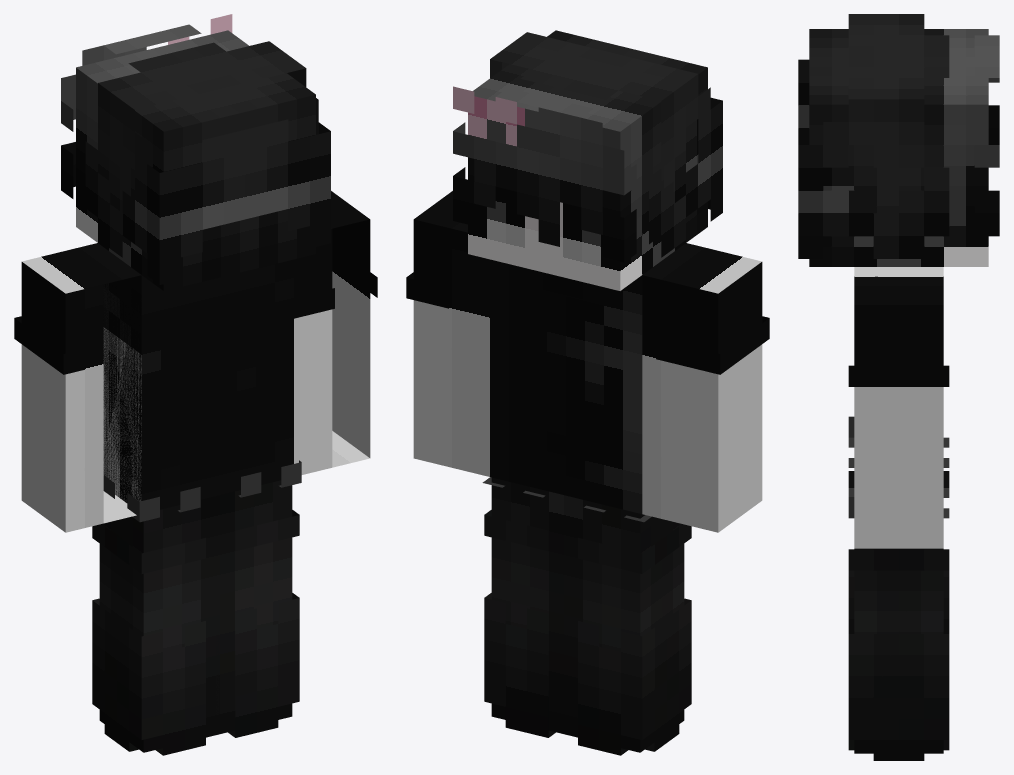
3 views of the same model, side by side, from view 1: azimuth 30°, elevation 25°; view 2: azimuth 150°, elevation 25°; view 3: azimuth 270°, elevation 25° (orthographic).
Parts seen in each view (by area): view 1: Body, Hat Layer, Left Arm, Head, Right Arm, Left Leg Layer, Left Leg, Right Leg, Right Leg Layer, Body Layer, Left Arm Layer, Right Arm Layer; view 2: Hat Layer, Body, Left Arm, Head, Right Arm, Left Leg Layer, Left Leg, Right Leg, Right Leg Layer, Left Arm Layer, Body Layer, Right Arm Layer; view 3: Hat Layer, Right Arm, Head, Right Leg Layer, Right Leg, Right Arm Layer, Left Leg Layer, Body Layer.
Part boxes in pixels (x1=…): Body: x1=103, y1=259, x2=293, y2=509; Hat Layer: x1=61, y1=14, x2=330, y2=284; Left Arm: x1=21, y1=243, x2=141, y2=532; Head: x1=76, y1=30, x2=315, y2=290; Right Arm: x1=294, y1=191, x2=370, y2=474; Left Leg Layer: x1=92, y1=524, x2=205, y2=755; Left Leg: x1=99, y1=495, x2=219, y2=752; Right Leg: x1=216, y1=480, x2=292, y2=733; Right Leg Layer: x1=228, y1=510, x2=299, y2=737; Body Layer: x1=103, y1=460, x2=301, y2=522; Left Arm Layer: x1=14, y1=316, x2=84, y2=374; Right Arm Layer: x1=292, y1=272, x2=377, y2=318; Hat Layer: x1=453, y1=32, x2=722, y2=262; Body: x1=490, y1=259, x2=642, y2=513; Left Arm: x1=642, y1=243, x2=762, y2=532; Head: x1=468, y1=30, x2=707, y2=290; Right Arm: x1=413, y1=191, x2=489, y2=476; Left Leg Layer: x1=578, y1=524, x2=691, y2=755; Left Leg: x1=564, y1=495, x2=684, y2=752; Right Leg: x1=491, y1=477, x2=567, y2=733; Right Leg Layer: x1=484, y1=510, x2=555, y2=737; Left Arm Layer: x1=656, y1=316, x2=769, y2=374; Body Layer: x1=482, y1=272, x2=651, y2=522; Right Arm Layer: x1=406, y1=272, x2=448, y2=308; Hat Layer: x1=798, y1=14, x2=999, y2=258; Right Arm: x1=854, y1=267, x2=943, y2=548; Head: x1=809, y1=29, x2=988, y2=266; Right Leg Layer: x1=848, y1=549, x2=949, y2=760; Right Leg: x1=854, y1=548, x2=943, y2=753; Right Arm Layer: x1=848, y1=365, x2=949, y2=386; Left Leg Layer: x1=848, y1=471, x2=949, y2=633; Body Layer: x1=848, y1=416, x2=949, y2=518.
Size of the model in its own units: 1.03 by 2.05 by 0.5625.
1 material, 1 textured.
